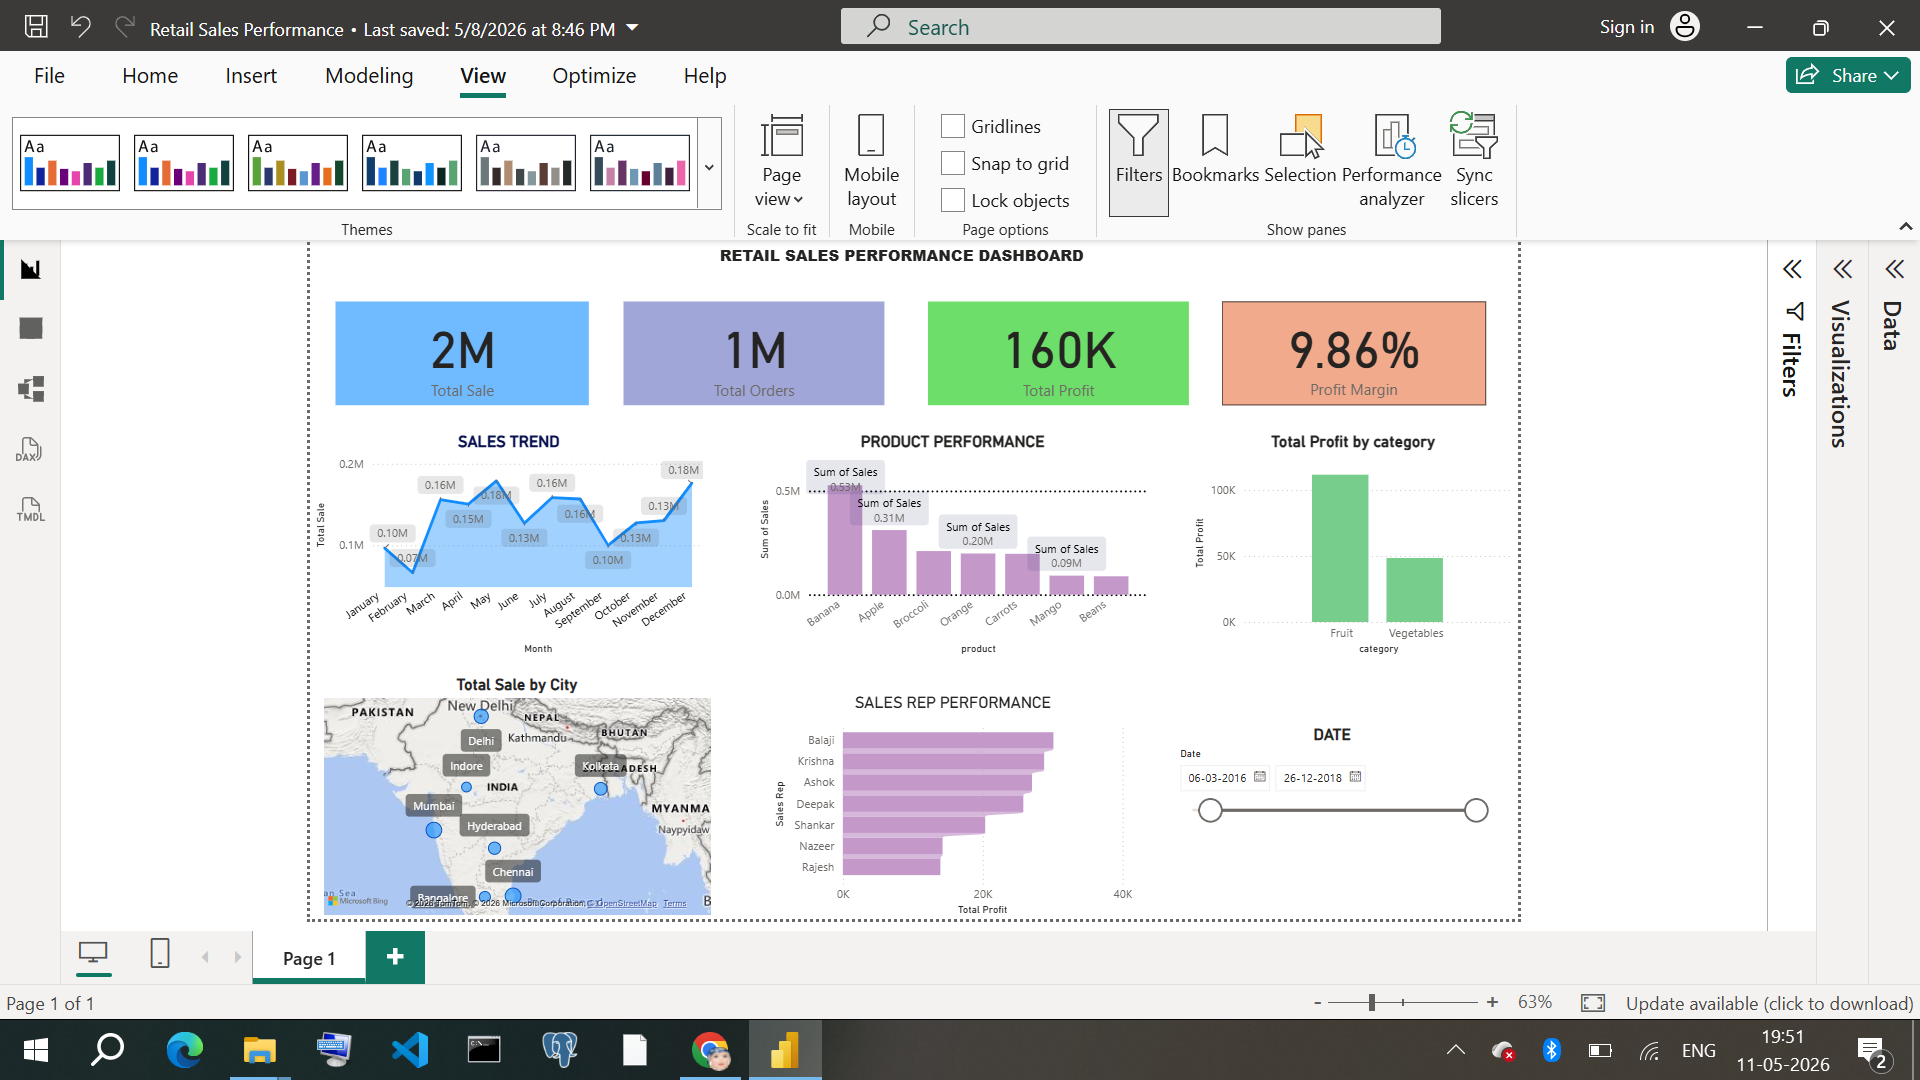

This screenshot's page, from the dashboard's own definition file:
{"tool":"powerbi","page":{"name":"Page 1","canvas":[1280,720],"ordinal":0},"visuals":[{"type":"card","fields":{"Values":["Products sales.Total Sale"]},"box":[27,65.2,268.8,109.8],"z":0},{"type":"card","fields":{"Values":["Products sales.Profit Margin"]},"box":[967.1,65.2,279.9,109.8],"z":1000},{"type":"lineChart","title":"SALES TREND","fields":{"Category":["Products sales.Date.Variation.Date Hierarchy.Month"],"Y":["Products sales.Total Sale"]},"box":[0,203.6,421.5,240.2],"z":2000},{"type":"columnChart","title":"PRODUCT PERFORMANCE","fields":{"Category":["Products sales.product"],"Y":["Sum(Products sales.Sales)"]},"box":[470.8,203.6,421.5,240.2],"z":3000},{"type":"card","fields":{"Values":["Products sales.Total Profit"]},"box":[655.3,65.2,276.8,109.8],"z":4000},{"type":"card","fields":{"Values":["Products sales.Total Orders"]},"box":[332.4,65.2,276.8,109.8],"z":5000},{"type":"columnChart","fields":{"Category":["Products sales.category"],"Y":["Products sales.Total Profit"]},"box":[932.1,203.6,348.3,240.2],"z":6000},{"type":"barChart","title":"SALES REP PERFORMANCE","fields":{"Category":["Products sales.Sales Rep"],"Y":["Products sales.Total Profit"]},"box":[486.7,480.4,389.7,240.2],"z":7000},{"type":"map","title":"Total Sale by City","fields":{"Category":["Products sales.City"],"Size":["Products sales.Total Sale"]},"box":[9.5,461.3,419.9,259.3],"z":8000},{"type":"slicer","title":"DATE","fields":{"Values":["Products sales.Date"]},"box":[909.8,513.8,348.3,120.9],"z":9000},{"type":"textbox","box":[429.3,17.2,300,32.8],"z":10000},{"type":"textbox","box":[430,0,406.7,50],"z":11000}]}

Visuals, with their boxes on the page's 1280x720 design canvas (x1, y1, x2, y2). These are canvas units, not pixel positions in the 1920x1080 screenshot, which may show the page scaled, cropped or inside an application window:
card - Products sales.Total Sale: {"left": 27, "top": 65, "right": 296, "bottom": 175}
card - Products sales.Profit Margin: {"left": 967, "top": 65, "right": 1247, "bottom": 175}
"SALES TREND" lineChart: {"left": 0, "top": 204, "right": 422, "bottom": 444}
"PRODUCT PERFORMANCE" columnChart: {"left": 471, "top": 204, "right": 892, "bottom": 444}
card - Products sales.Total Profit: {"left": 655, "top": 65, "right": 932, "bottom": 175}
card - Products sales.Total Orders: {"left": 332, "top": 65, "right": 609, "bottom": 175}
columnChart - Products sales.category x Products sales.Total Profit: {"left": 932, "top": 204, "right": 1280, "bottom": 444}
"SALES REP PERFORMANCE" barChart: {"left": 487, "top": 480, "right": 876, "bottom": 721}
"Total Sale by City" map: {"left": 10, "top": 461, "right": 429, "bottom": 721}
"DATE" slicer: {"left": 910, "top": 514, "right": 1258, "bottom": 635}
textbox: {"left": 429, "top": 17, "right": 729, "bottom": 50}
textbox: {"left": 430, "top": 0, "right": 837, "bottom": 50}
